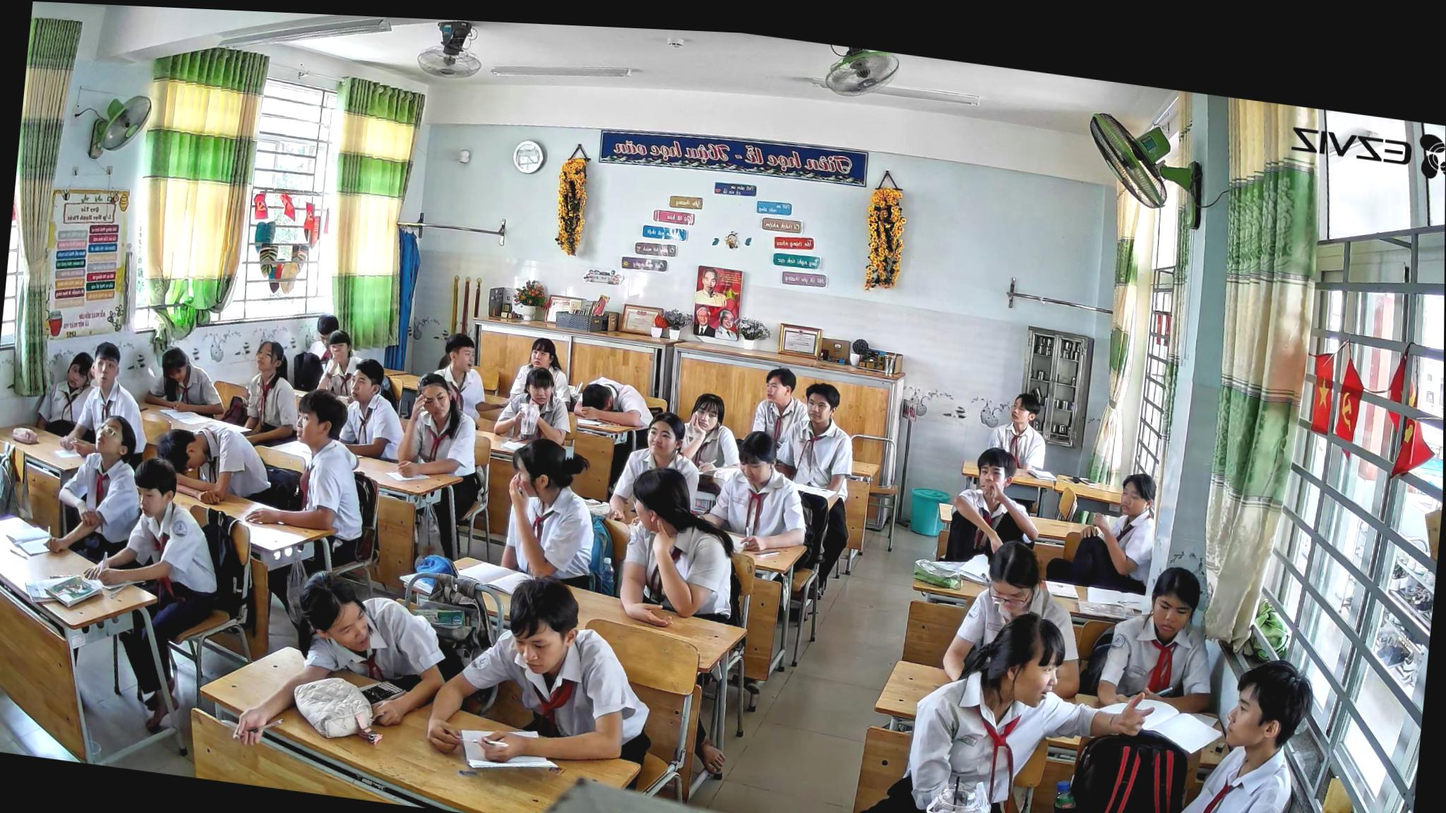person: (845, 588, 1163, 813), (423, 563, 667, 785), (232, 557, 475, 775), (1038, 629, 1315, 813), (66, 448, 230, 739), (239, 381, 377, 581), (937, 532, 1094, 705), (614, 462, 750, 638), (762, 377, 863, 602), (1094, 557, 1227, 725), (40, 407, 156, 569), (695, 423, 815, 566), (390, 369, 494, 534), (497, 434, 605, 589), (1044, 462, 1163, 597), (944, 442, 1047, 575), (606, 405, 706, 534), (59, 337, 158, 464), (150, 417, 276, 512), (225, 336, 308, 455), (333, 355, 409, 463), (428, 329, 502, 435), (492, 361, 577, 447), (143, 343, 230, 419), (29, 345, 95, 441), (679, 391, 744, 480), (984, 387, 1052, 472), (506, 333, 577, 409), (571, 372, 656, 433), (751, 364, 810, 450), (291, 310, 341, 393), (315, 328, 360, 400)
